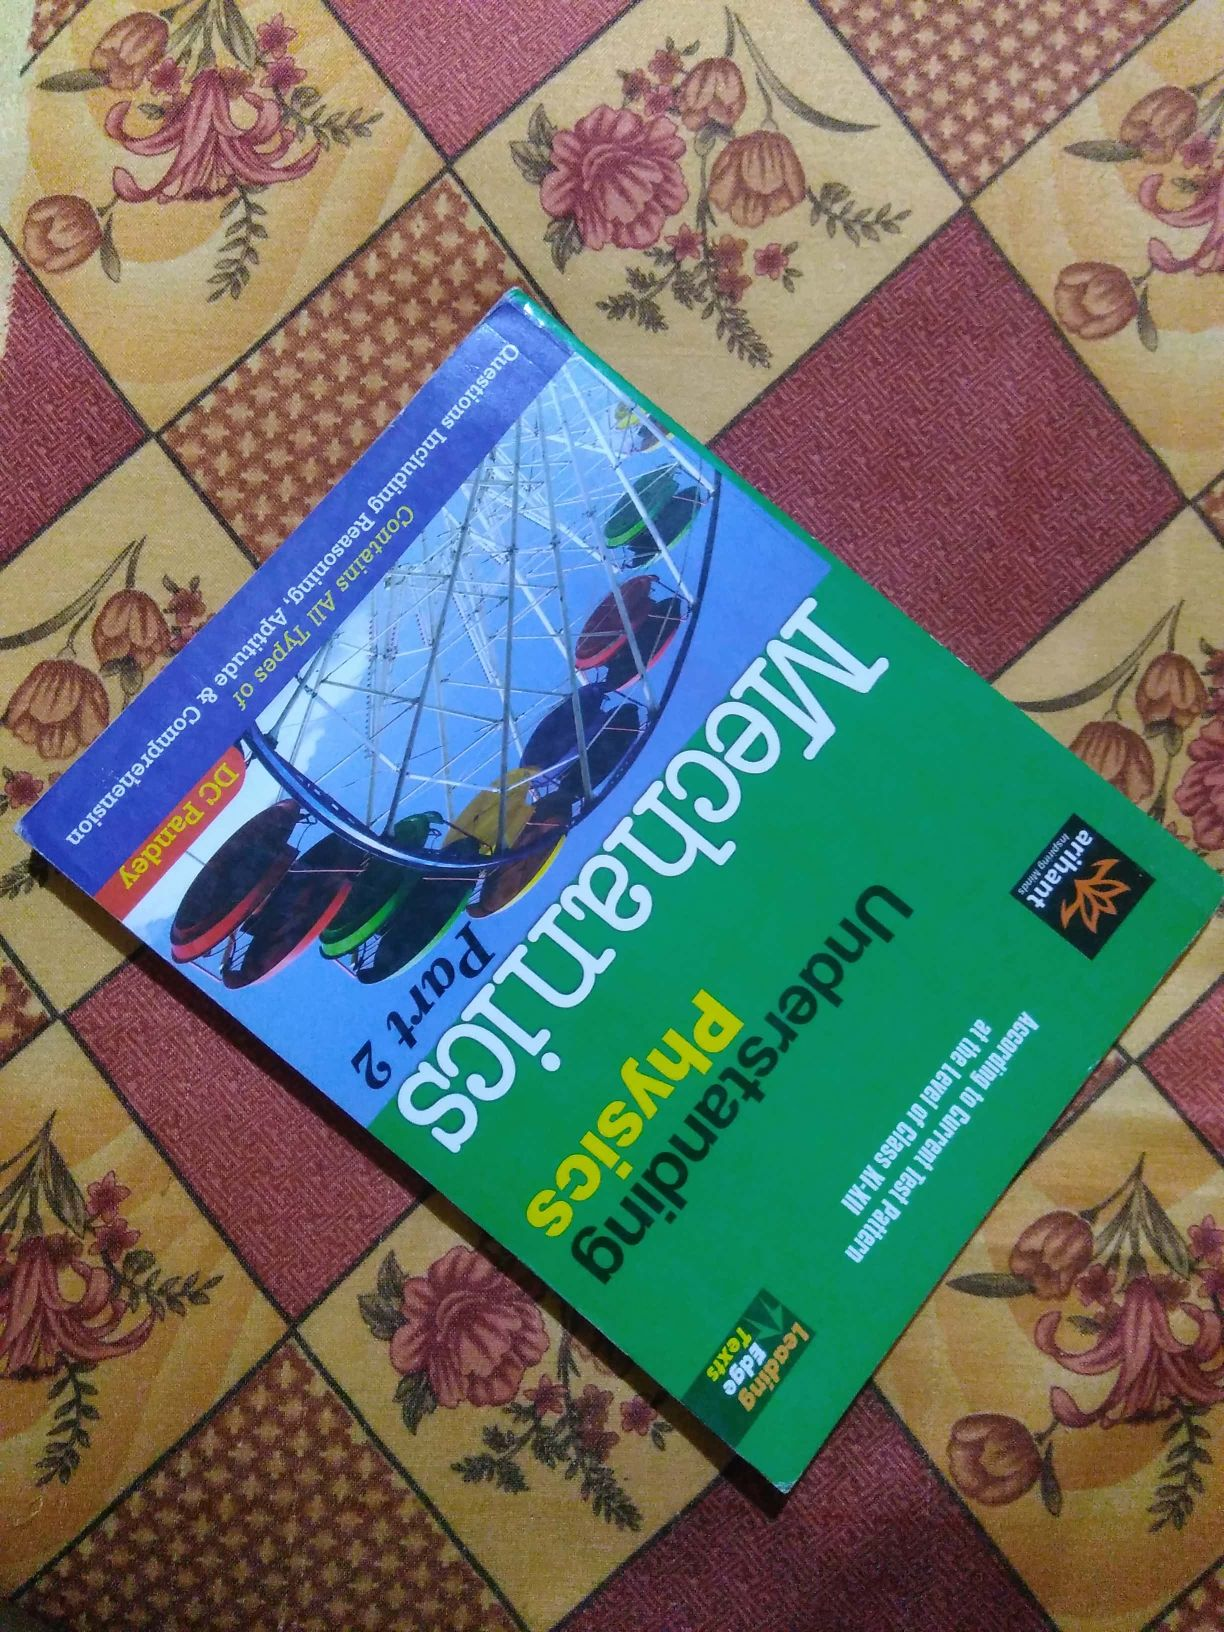mechanics: (141, 314, 1155, 1465)
